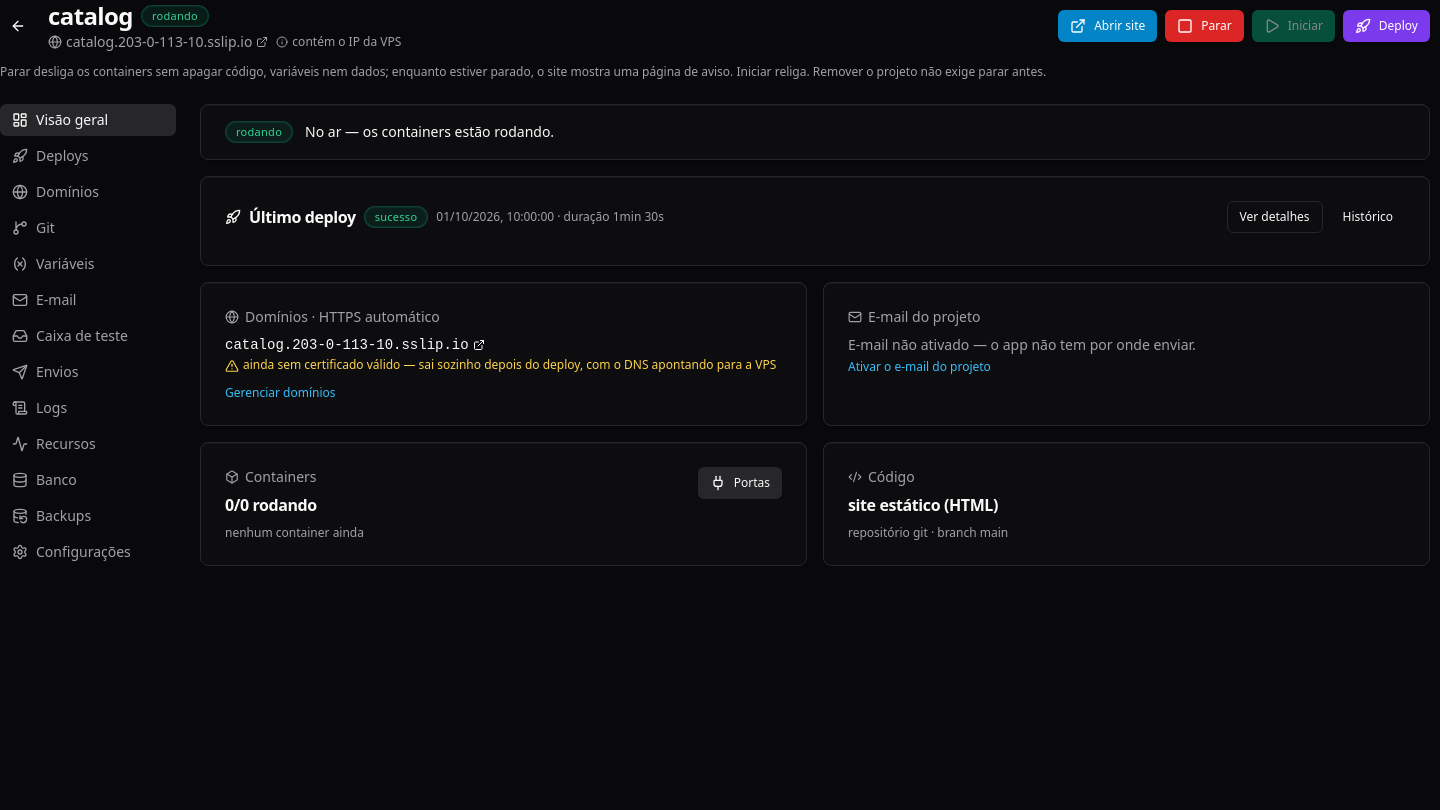
Test: ProjectDetailPage — visão geral › sem deploy rodando: resumo do último (status, duração) com link para os detalhes
Expected: the element with test id "overview-deploy" shows "sucesso", [375, 209, 417, 224]
Expected: the element with test id "overview-deploy" shows "1min 30s", [564, 208, 664, 225]
Click the button "Ver detalhes" at (1274,217), box [1226, 201, 1322, 233]
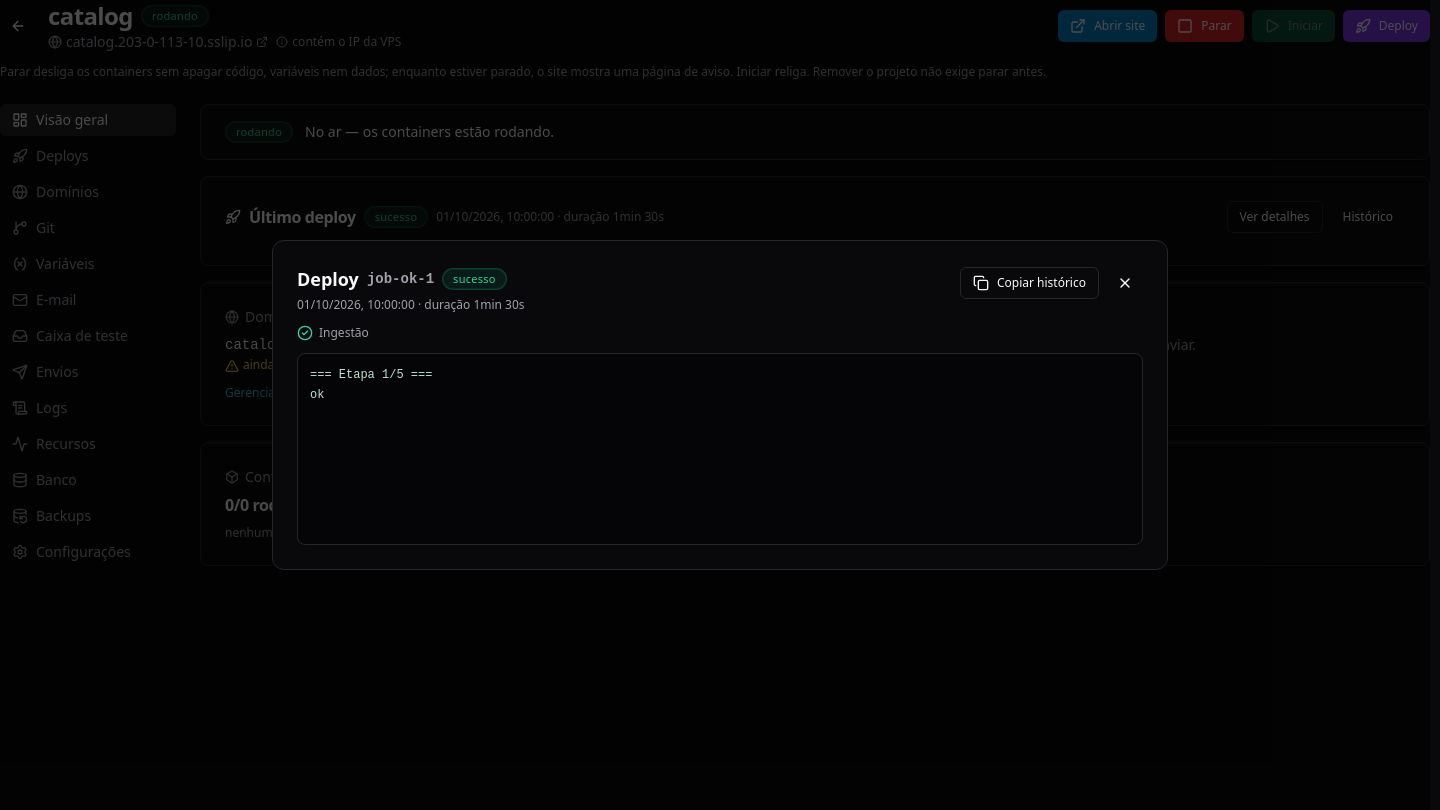
Expected: the dialog with test id "deploy-detail" shows "=== Etapa 1/5 ===", [310, 368, 432, 402]
